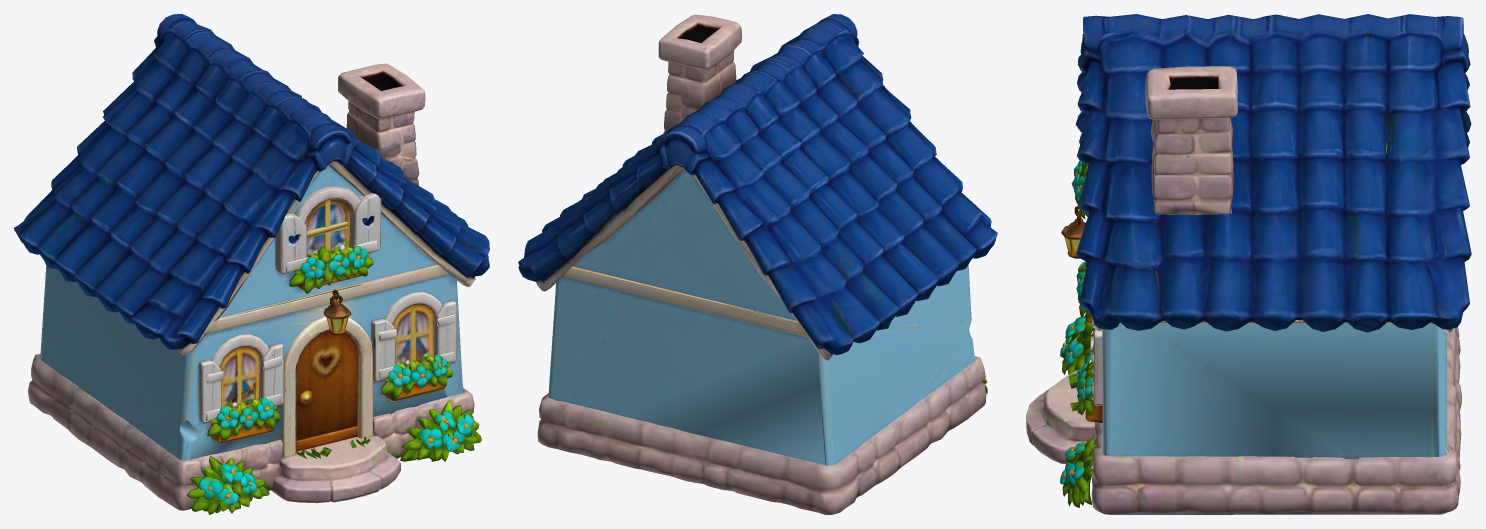
Rendered from cottage_new_blue.glb.
3 views of the same model, side by side, from view 1: azimuth 30°, elevation 25°; view 2: azimuth 150°, elevation 25°; view 3: azimuth 270°, elevation 25° (orthographic). The views are drawn at different scales.
Visible parts, largest first — view 1: geometry_0; view 2: geometry_0; view 3: geometry_0.
Boxes of the visible parts, <box> form: geometry_0: <box>14,14,489,514</box>; geometry_0: <box>518,14,997,514</box>; geometry_0: <box>1026,14,1471,514</box>.
Size of the model in its own units: 0.9565 by 0.9307 by 0.894.
1 material, 1 textured.
